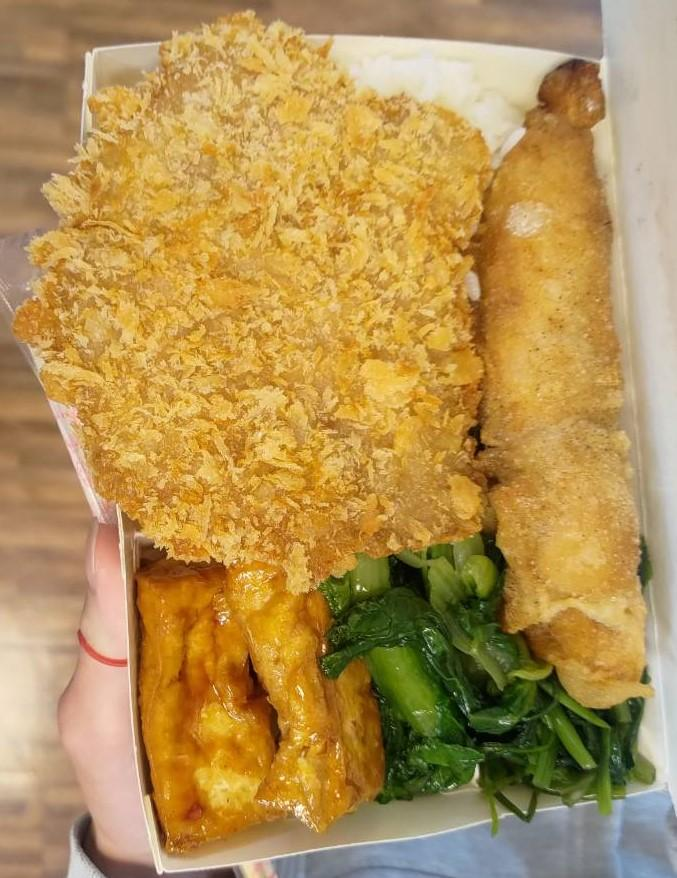big grilled chicken leg: (78, 16, 664, 872)
big herbal chicken leg: (346, 44, 525, 152)
braised fish fillet: (336, 524, 658, 803), (130, 528, 383, 846)
braised pork: (8, 16, 495, 581), (474, 56, 648, 702)
